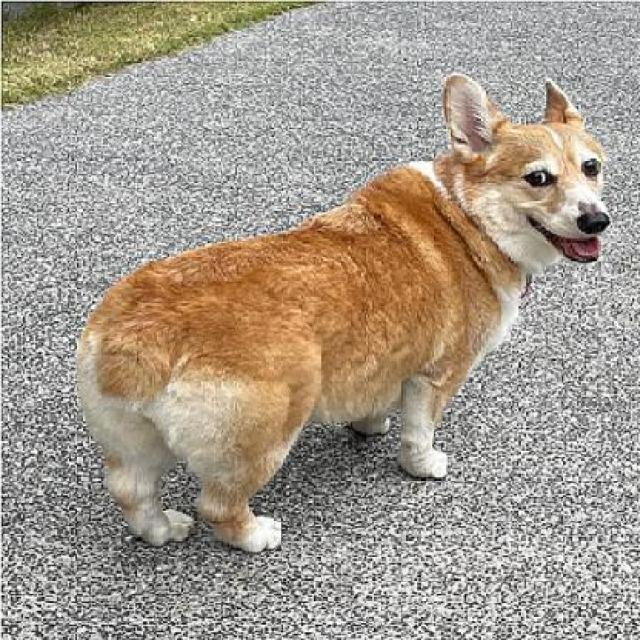Dog: (82, 72, 616, 558)
